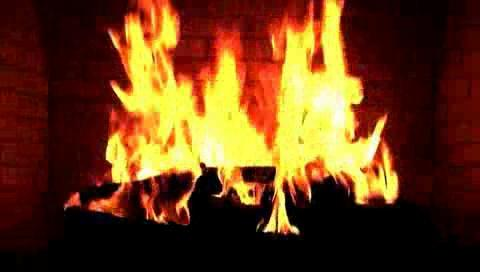fire: (112, 14, 386, 222)
